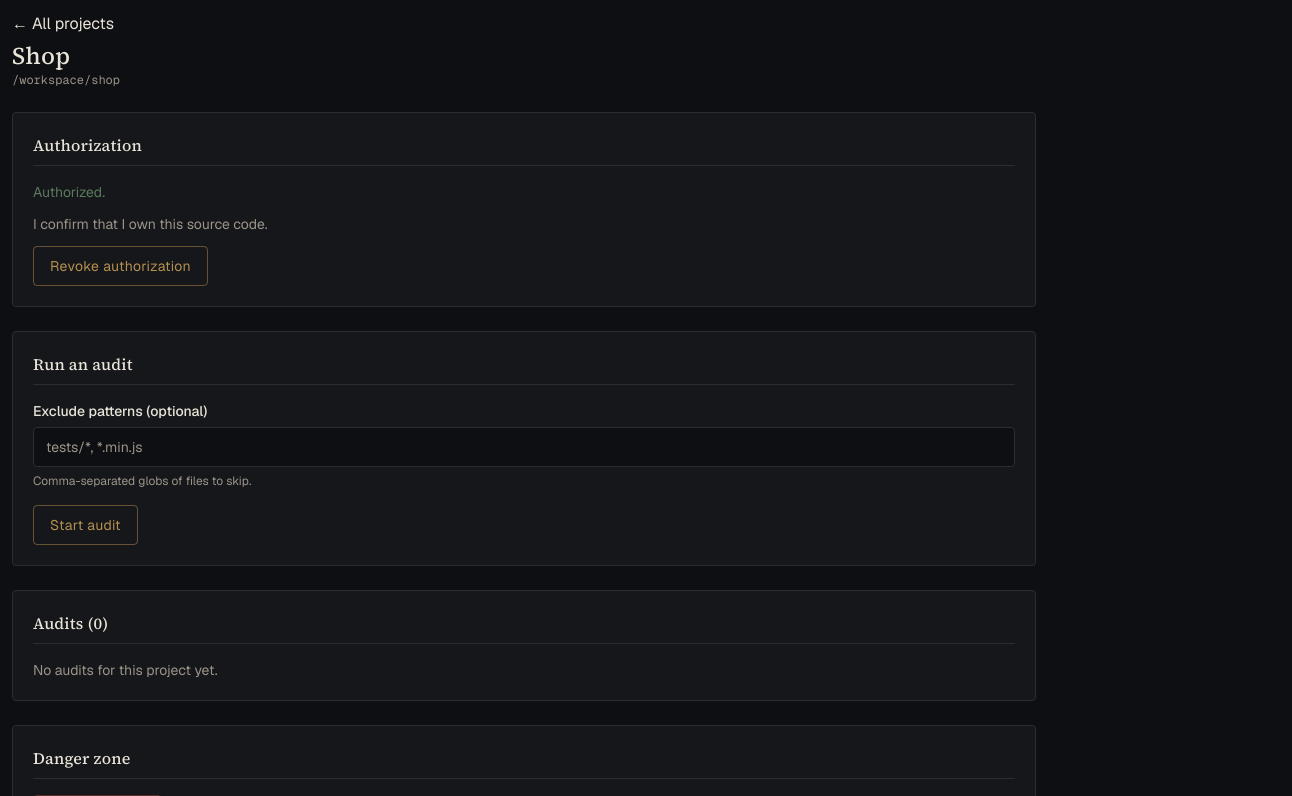
Scenario: ProjectPage › surfaces a refused audit (e.g. concurrency limit)
The width and height of the screenshot is (1292, 796).
Click the button "Start audit". click: (86, 525)
box: x1=33 y1=505 x2=138 y2=545
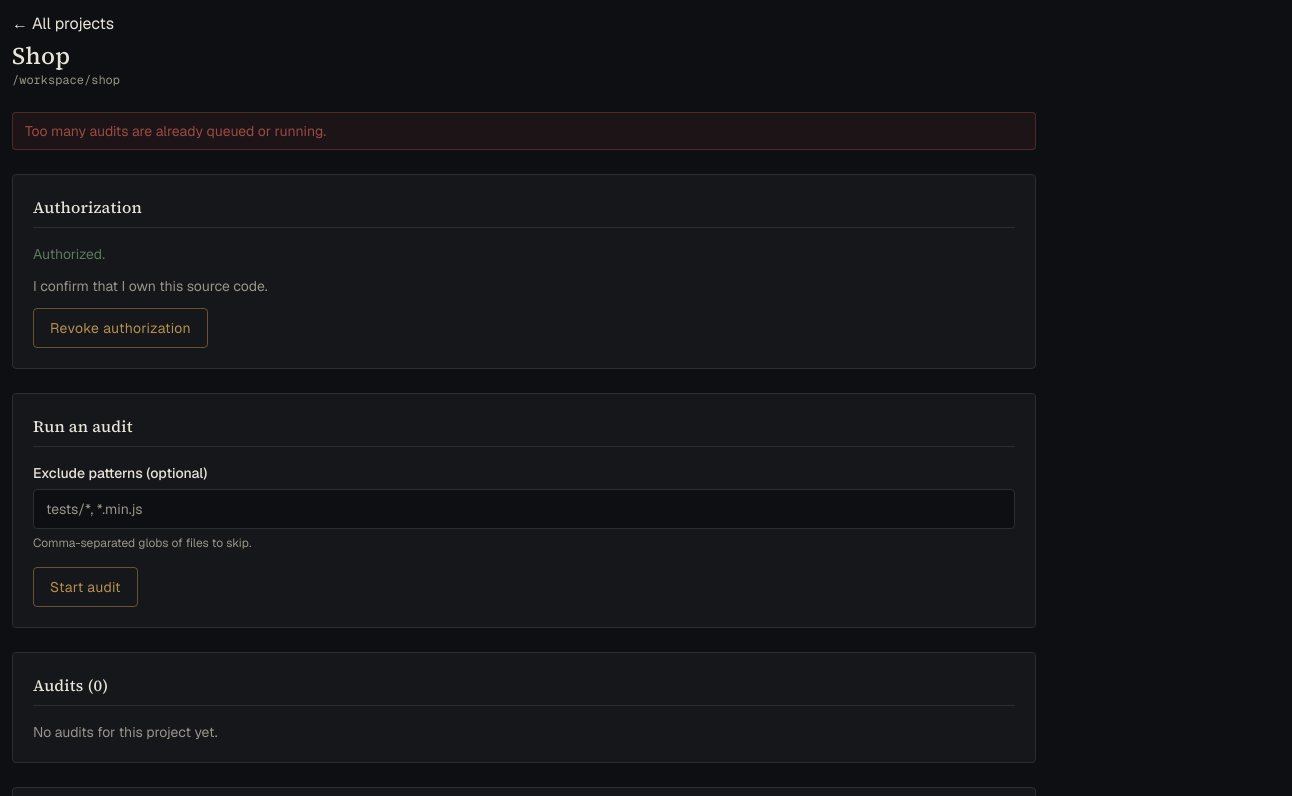
Check: the message shows "Too many audits", box x1=25 y1=122 x2=326 y2=140
